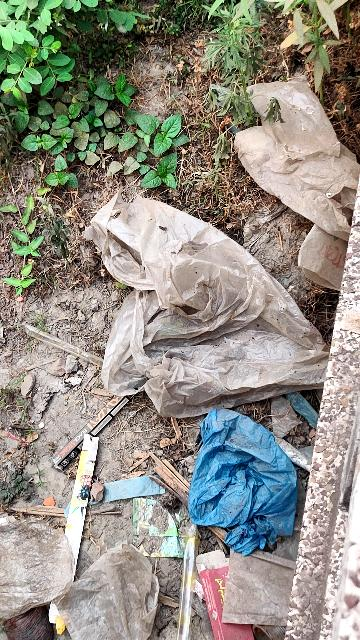polythene: (115, 190, 326, 400), (254, 79, 360, 268), (0, 528, 156, 640), (191, 415, 297, 550)
